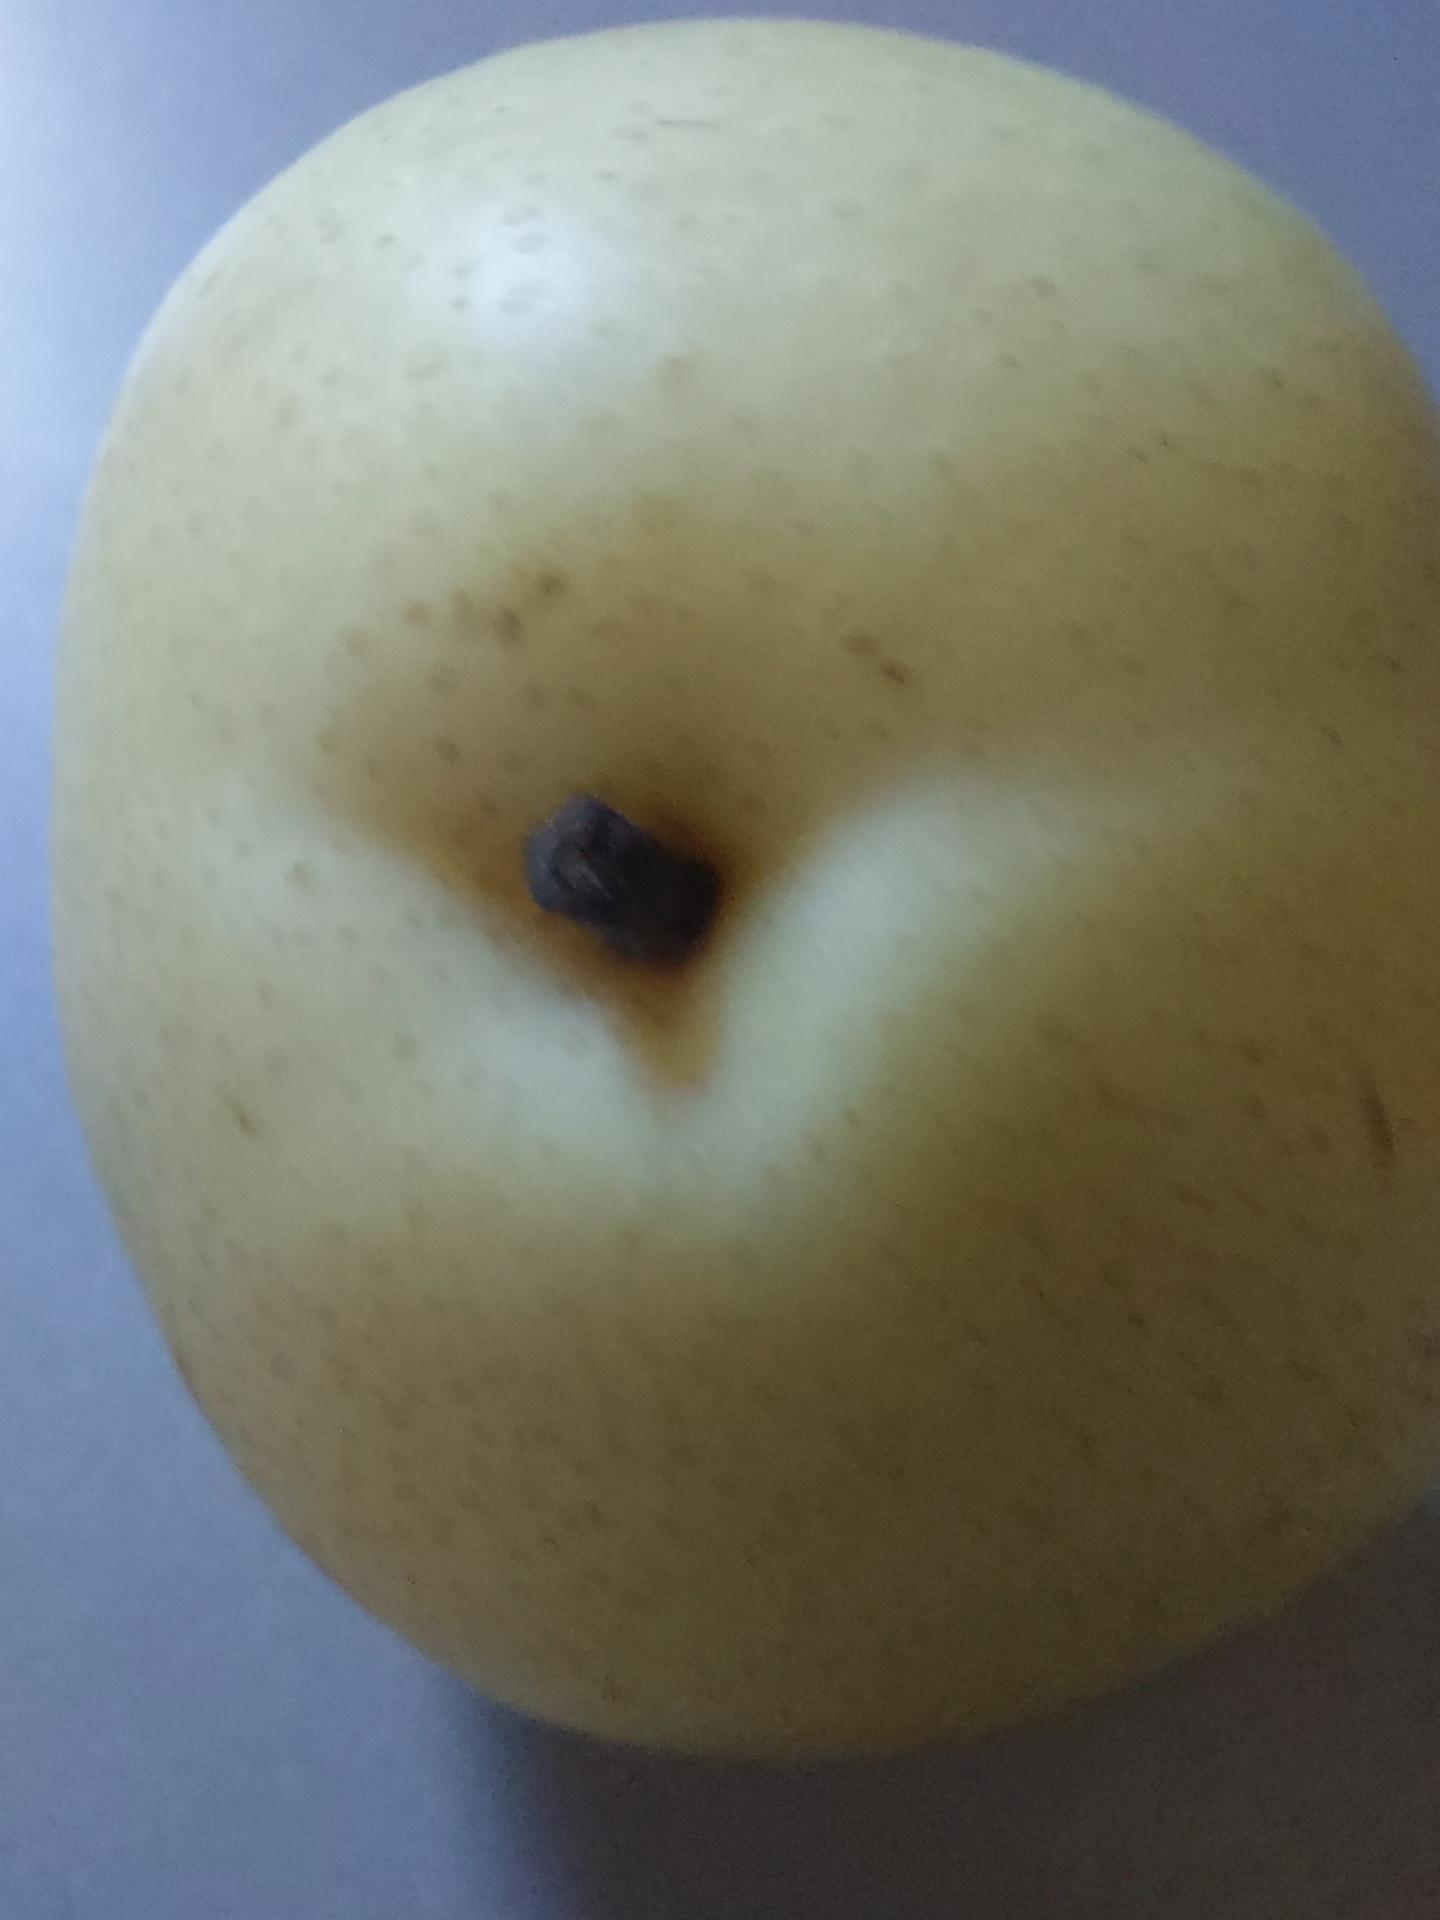Good Pear: (0, 0, 1440, 1825)
